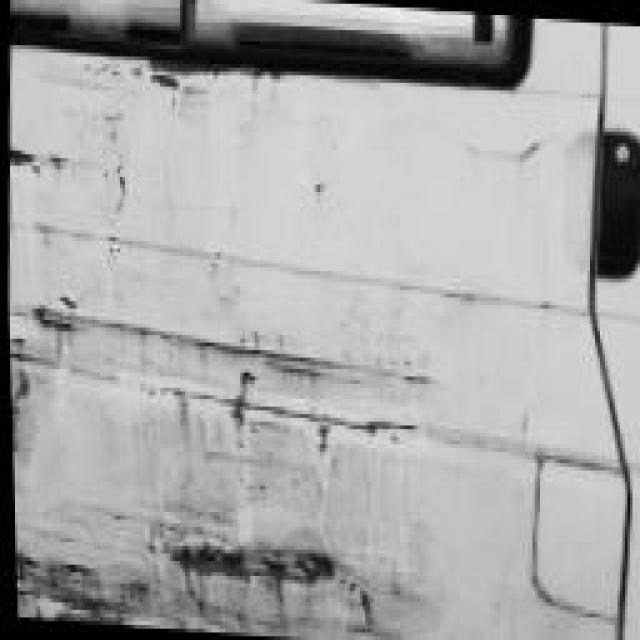Door: (0, 30, 599, 640)
